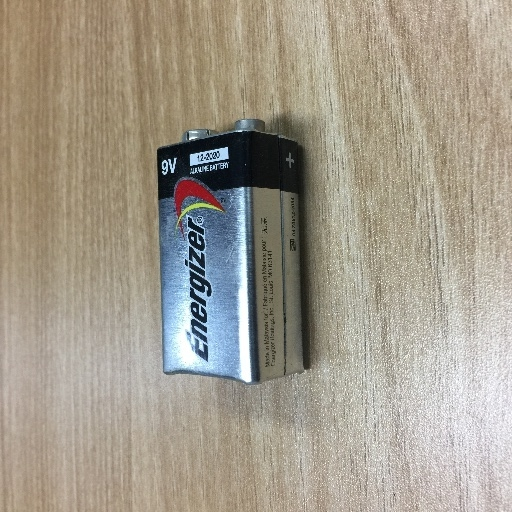Battery_3: (149, 116, 326, 406)
